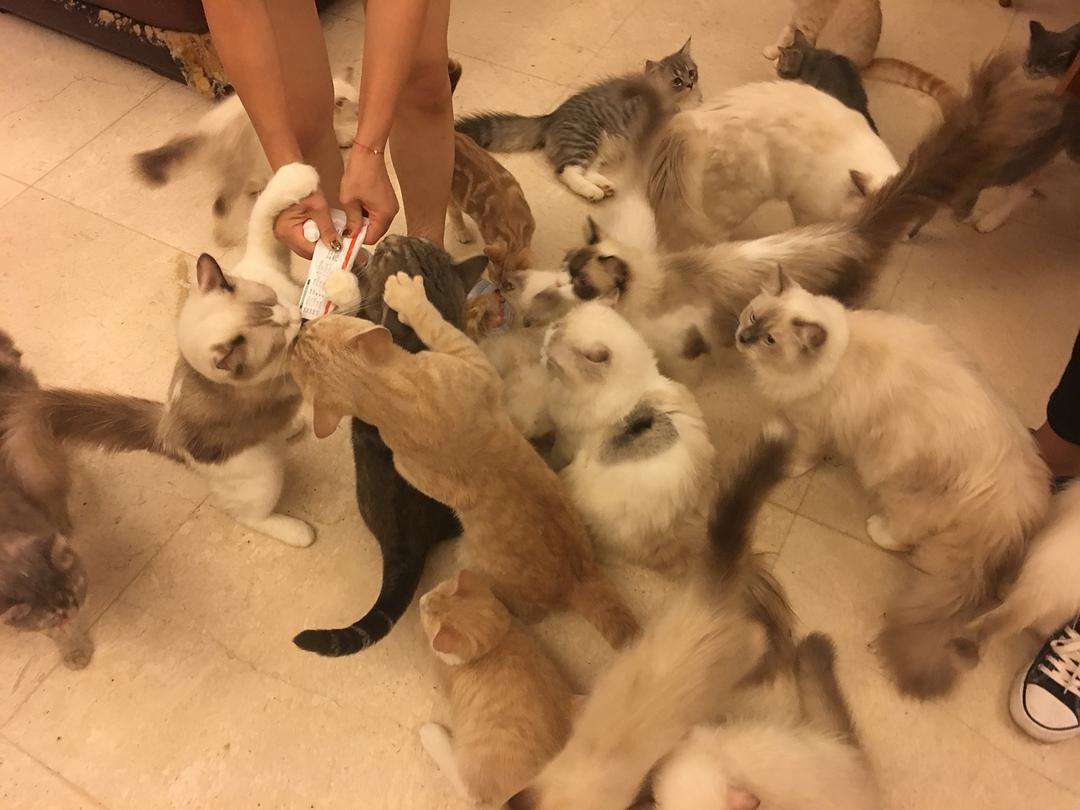cat: (553, 59, 1013, 384), (729, 262, 1055, 701), (292, 272, 646, 653), (12, 161, 323, 552), (500, 414, 803, 810), (291, 232, 492, 658), (539, 286, 724, 584), (133, 63, 363, 249), (452, 35, 702, 203), (415, 570, 574, 810), (1, 319, 96, 671), (449, 129, 538, 291), (777, 29, 879, 133)
